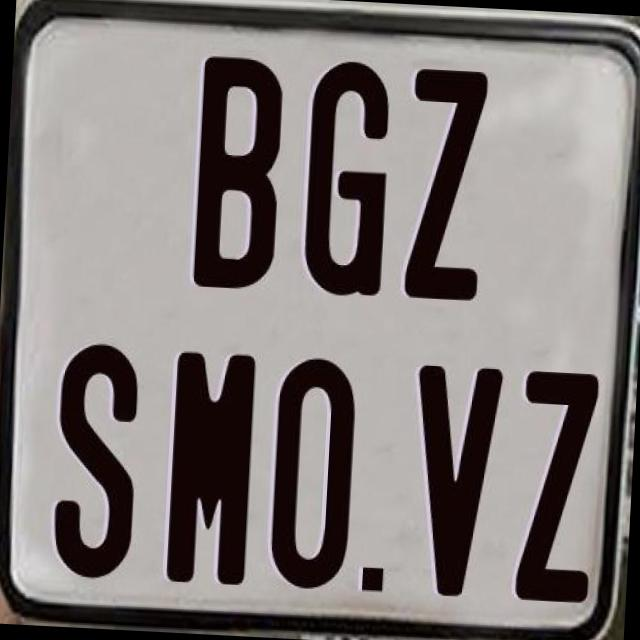0: (266, 353, 358, 597)
B: (193, 54, 287, 294)
G: (302, 60, 394, 298)
M: (166, 348, 260, 588)
S: (47, 340, 144, 589)
V: (406, 361, 505, 600)
Z: (402, 66, 489, 304), (511, 367, 595, 608)
